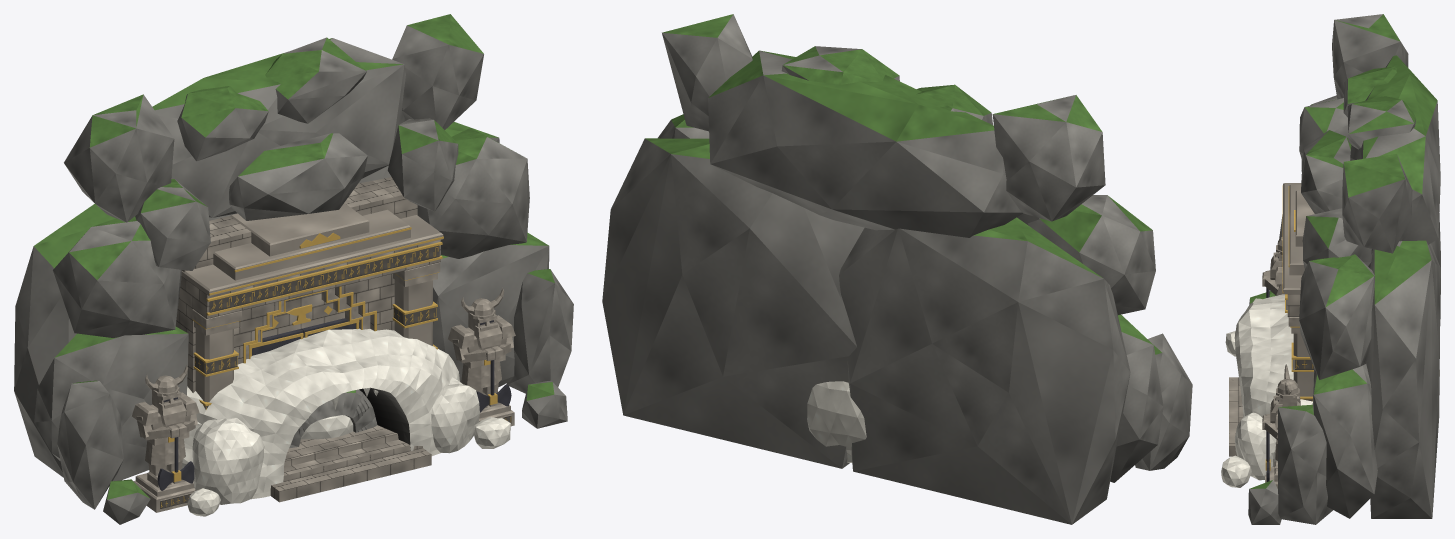
File: jura_batch_D.glb
3 views of the same model, side by side, from view 1: azimuth 30°, elevation 25°; view 2: azimuth 150°, elevation 25°; view 3: azimuth 270°, elevation 25° (orthographic). The views are drawn at different scales.
Parts seen in each view (by area): view 1: dwarf_gate_Rock, dwarf_gate_Stone, limestone_cave_Rock, dwarf_gate_Statues, dwarf_gate_Gold, wolf_den_Rock, limestone_cave_Inside, limestone_rock_c_Rock, dwarf_gate_DoorL; view 2: dwarf_gate_Rock, limestone_cave_Rock; view 3: dwarf_gate_Rock, limestone_cave_Rock, dwarf_gate_Stone, dwarf_gate_Statues, dwarf_gate_Gold.
Boxes of the visible parts, <box> form: dwarf_gate_Rock: <box>14,14,573,524</box>; dwarf_gate_Stone: <box>176,176,443,502</box>; limestone_cave_Rock: <box>181,328,510,516</box>; dwarf_gate_Statues: <box>132,288,515,512</box>; dwarf_gate_Gold: <box>192,227,443,406</box>; wolf_den_Rock: <box>289,389,377,448</box>; limestone_cave_Inside: <box>359,388,410,447</box>; limestone_rock_c_Rock: <box>301,415,353,439</box>; dwarf_gate_DoorL: <box>250,329,303,356</box>; dwarf_gate_Rock: <box>602,14,1192,524</box>; limestone_cave_Rock: <box>807,381,866,462</box>; dwarf_gate_Rock: <box>1248,14,1440,524</box>; limestone_cave_Rock: <box>1221,294,1439,487</box>; dwarf_gate_Stone: <box>1229,183,1314,456</box>; dwarf_gate_Statues: <box>1262,237,1300,488</box>; dwarf_gate_Gold: <box>1282,185,1313,399</box>.
Bounding box in the file's own units: 85.41 × 58.86 × 35.01.
1 material, 1 textured.
